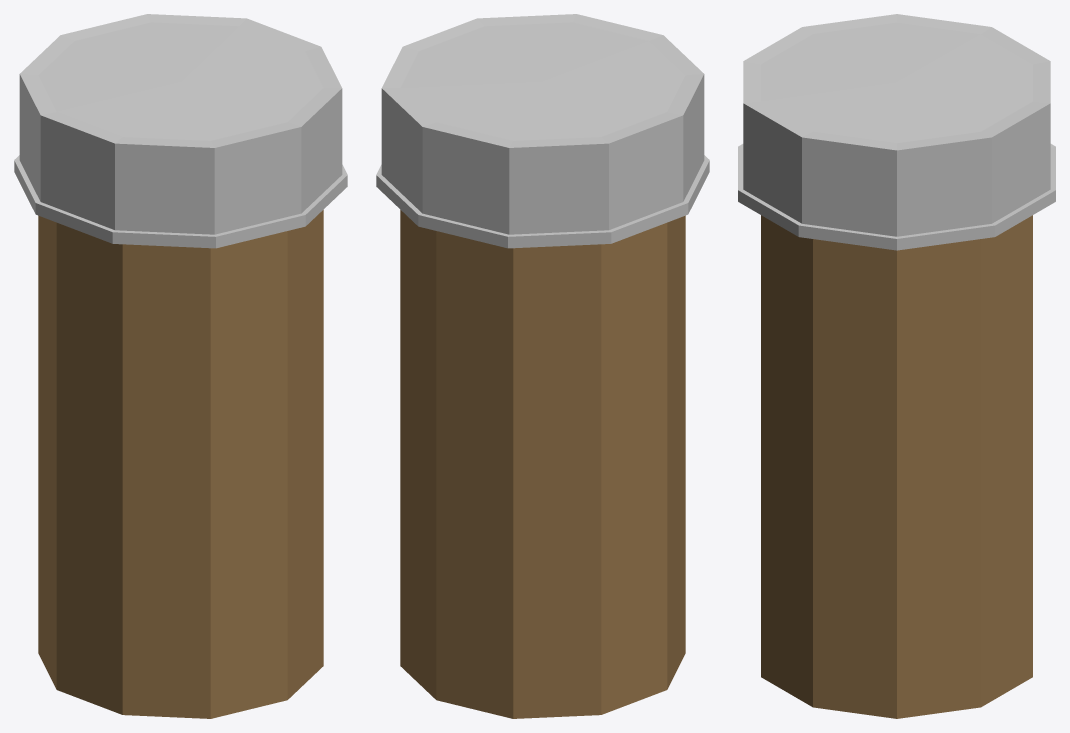
Rendered from PillBottle.fbx.
The picture shows the model from 3 angles, left to right: view 1: azimuth 30°, elevation 25°; view 2: azimuth 150°, elevation 25°; view 3: azimuth 270°, elevation 25°; orthographic projection.
Parts seen in each view (by area): view 1: polySurface13, polySurface1; view 2: polySurface13, polySurface1; view 3: polySurface13, polySurface1.
Boxes of the visible parts, x1,y1,x2,y2 form: polySurface13: (38, 210, 323, 718); polySurface1: (14, 14, 347, 248); polySurface13: (400, 210, 685, 718); polySurface1: (376, 14, 709, 248); polySurface13: (761, 215, 1032, 718); polySurface1: (738, 14, 1055, 250).
Bounding box in the file's own units: 2.34 × 4.45 × 2.22.
